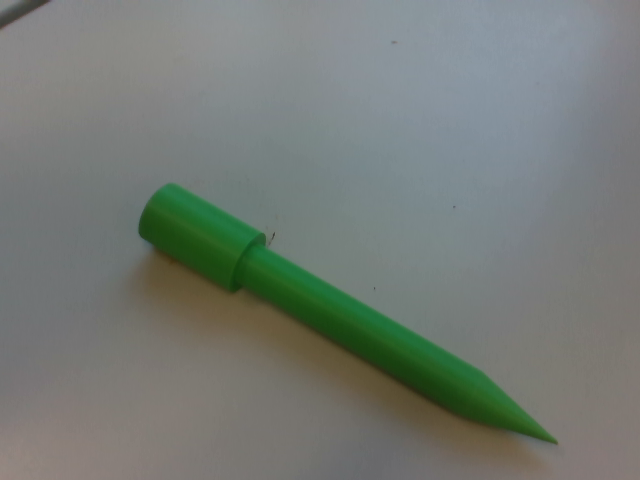Probe: (132, 177, 570, 454)
